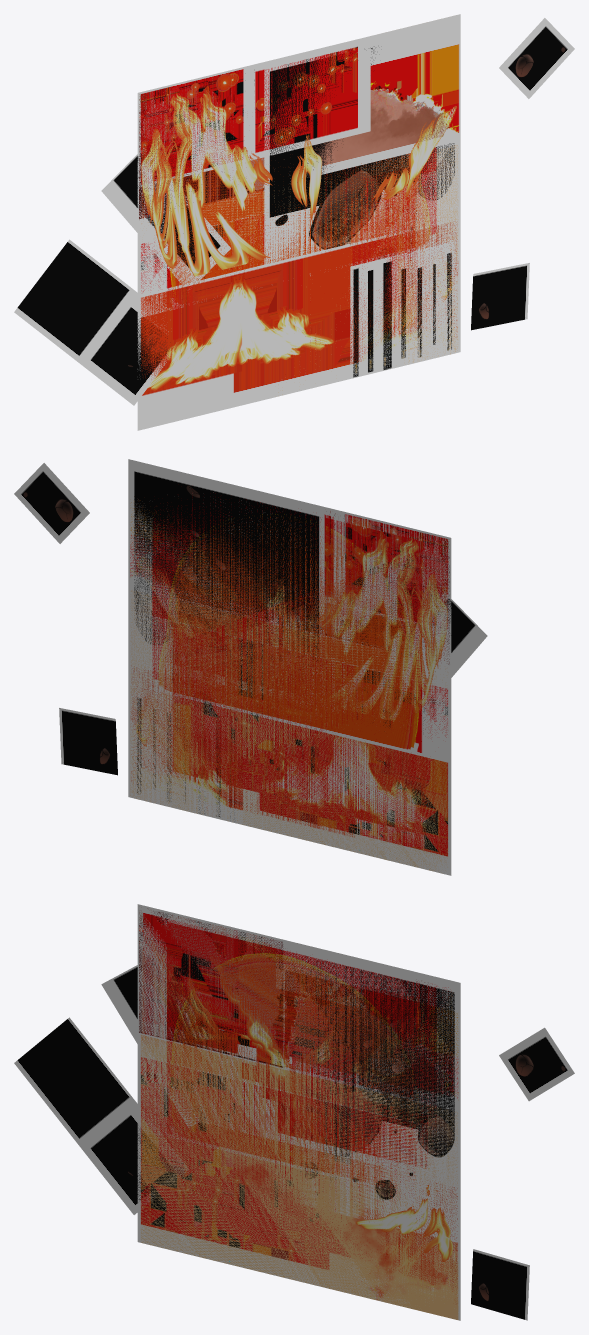
Rendered from Ramayana-Elemen.fbx.
The picture shows the model from 3 angles, top to bottom: view 1: azimuth 30°, elevation 25°; view 2: azimuth 150°, elevation 25°; view 3: azimuth 330°, elevation 25°; orthographic projection.
Visible parts, largest first — view 1: Api_B_B, Particle_A_A, Batuan_A_E, Glow_Org_A, Api_A_B, Asap_B_B, Batuan_A_B, Particle_A_B, Api_B_C, Asap_B_C, Batuan_A_D, Batuan_A_C (+11 smaller); view 2: Glow_Org_A, Particle_A_B, Batuan_A_E, Asap_B_A, Api_B_B, Api_A_B, Asap_B, Particle_A_A, Api_B_A, Api_B_C, Batuan_A_C, Batuan_A_A (+6 smaller); view 3: Asap_B_A, Asap_B, Glow_Org_A, Api_B_A, Batuan_A_E, Particle_A_B, Batuan_A_B, Batuan_A_C, Batuan_A_A, Api_B_C, Api_A_A, Batuan_A_D (+1 smaller).
Part boxes in pixels (x1=…): Api_B_B: x1=137, y1=244, x2=348, y2=430; Particle_A_A: x1=137, y1=36, x2=370, y2=187; Batuan_A_E: x1=264, y1=33, x2=460, y2=277; Glow_Org_A: x1=137, y1=86, x2=460, y2=317; Api_A_B: x1=141, y1=92, x2=456, y2=276; Asap_B_B: x1=307, y1=14, x2=460, y2=177; Batuan_A_B: x1=14, y1=239, x2=175, y2=405; Particle_A_B: x1=137, y1=165, x2=460, y2=396; Api_B_C: x1=348, y1=218, x2=460, y2=379; Asap_B_C: x1=137, y1=70, x2=264, y2=219; Batuan_A_D: x1=101, y1=148, x2=230, y2=289; Batuan_A_C: x1=471, y1=263, x2=529, y2=330; Glow_Org_A: x1=128, y1=487, x2=451, y2=763; Particle_A_B: x1=128, y1=610, x2=451, y2=875; Batuan_A_E: x1=128, y1=459, x2=324, y2=763; Asap_B_A: x1=128, y1=588, x2=451, y2=873; Api_B_B: x1=240, y1=722, x2=451, y2=859; Api_A_B: x1=132, y1=537, x2=447, y2=721; Asap_B: x1=128, y1=492, x2=451, y2=870; Particle_A_A: x1=274, y1=505, x2=451, y2=632; Api_B_A: x1=128, y1=505, x2=451, y2=711; Api_B_C: x1=128, y1=662, x2=240, y2=824; Batuan_A_C: x1=59, y1=708, x2=117, y2=775; Batuan_A_A: x1=14, y1=463, x2=89, y2=543; Asap_B_A: x1=137, y1=1031, x2=460, y2=1320; Asap_B: x1=137, y1=907, x2=460, y2=1319; Glow_Org_A: x1=137, y1=906, x2=460, y2=1192; Api_B_A: x1=137, y1=904, x2=460, y2=1184; Batuan_A_E: x1=266, y1=943, x2=460, y2=1243; Particle_A_B: x1=137, y1=1055, x2=460, y2=1306; Batuan_A_B: x1=14, y1=1017, x2=188, y2=1214; Batuan_A_C: x1=471, y1=1249, x2=529, y2=1320; Batuan_A_A: x1=499, y1=1027, x2=574, y2=1101; Api_B_C: x1=361, y1=1182, x2=460, y2=1308; Api_A_A: x1=355, y1=1185, x2=453, y2=1261; Batuan_A_D: x1=101, y1=965, x2=201, y2=1127.
Bounding box in the file's own units: 695 × 400 × 5.53e-14.
Materials: 7 (7 with a texture image).
